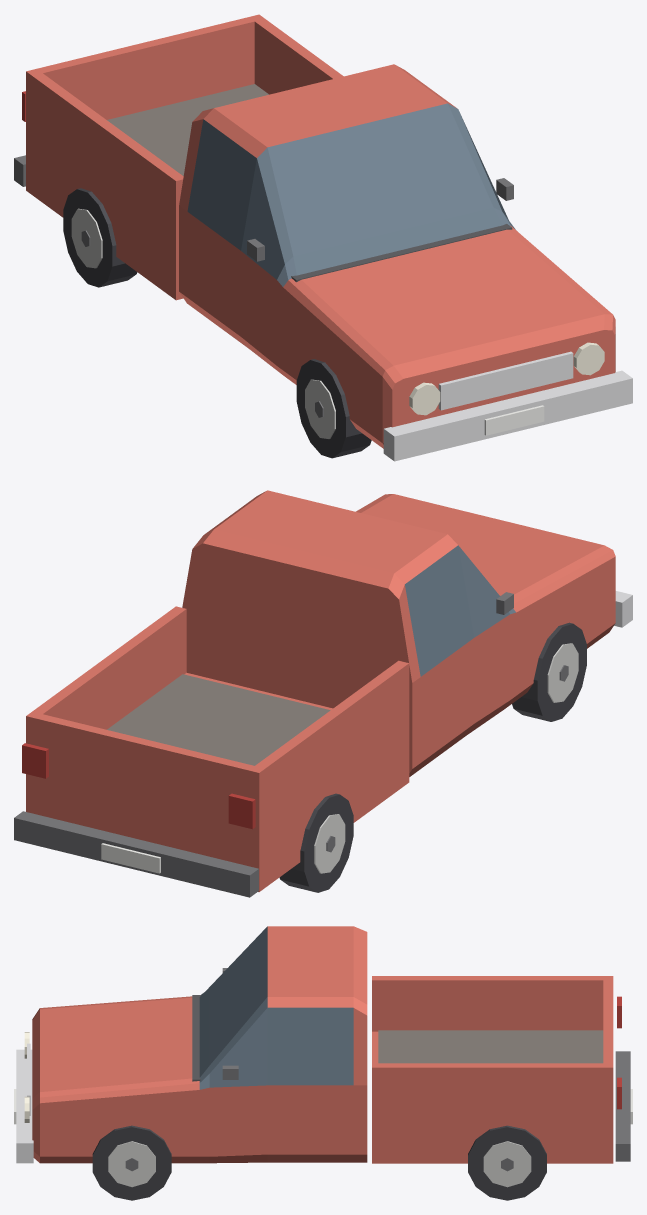
Rendered from kamyonet.glb.
3 views of the same model, one above another, from view 1: azimuth 30°, elevation 25°; view 2: azimuth 150°, elevation 25°; view 3: azimuth 270°, elevation 25° (orthographic). The views are drawn at different scales.
Visible parts, largest first — view 1: Govde, Kasa, Tampon, Teker_OnSag, Teker_ArkaSag, Far, Ic; view 2: Govde, Kasa, Tampon, Teker_OnSag, Teker_ArkaSag, Stop; view 3: Govde, Kasa, Teker_OnSol, Teker_ArkaSol, Tampon, Ic.
Part boxes in pixels (x1,y1,x2,y2): Govde: (179, 64, 615, 448); Kasa: (26, 14, 343, 300); Tampon: (14, 155, 632, 461); Teker_OnSag: (296, 359, 371, 458); Teker_ArkaSag: (63, 188, 137, 287); Far: (409, 342, 604, 415); Ic: (291, 224, 512, 282); Govde: (182, 490, 615, 776); Kasa: (26, 606, 409, 891); Tampon: (14, 591, 632, 897); Teker_OnSag: (512, 622, 586, 721); Teker_ArkaSag: (279, 793, 353, 892); Stop: (22, 743, 255, 829); Govde: (32, 926, 367, 1163); Kasa: (372, 976, 613, 1163); Teker_OnSol: (92, 1125, 171, 1200); Teker_ArkaSol: (468, 1125, 546, 1200); Tampon: (14, 968, 632, 1163); Ic: (192, 995, 200, 1081).
Size of the model in its own units: 1.94 by 1.72 by 5.03.
